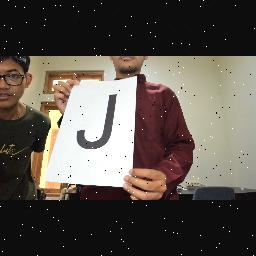j: (75, 91, 123, 153)
